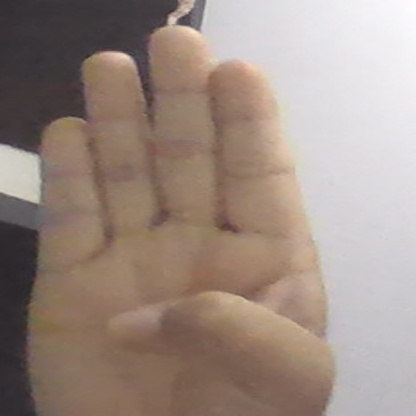B: (29, 29, 336, 409)
